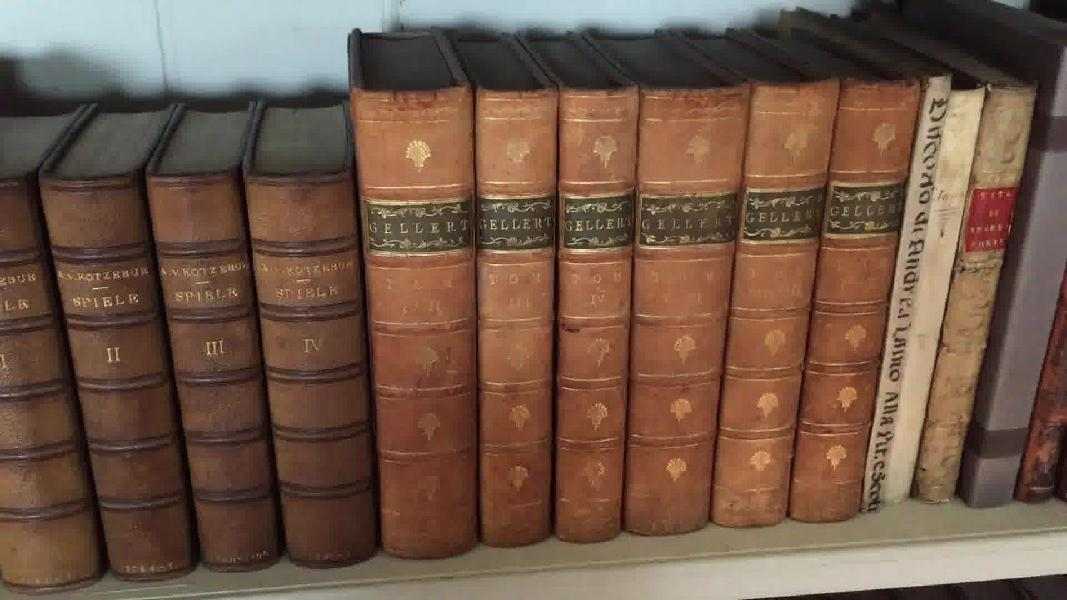Aa6-14_17: (5, 155, 397, 589)
Aa6-18_23: (351, 79, 920, 569)
Aa6-24: (862, 79, 958, 536)
Aa6-25: (875, 70, 981, 516)
Aa6-26: (916, 63, 1042, 517)
